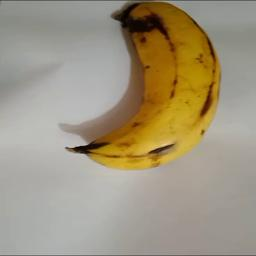Banana Unripe: (71, 1, 229, 173)
